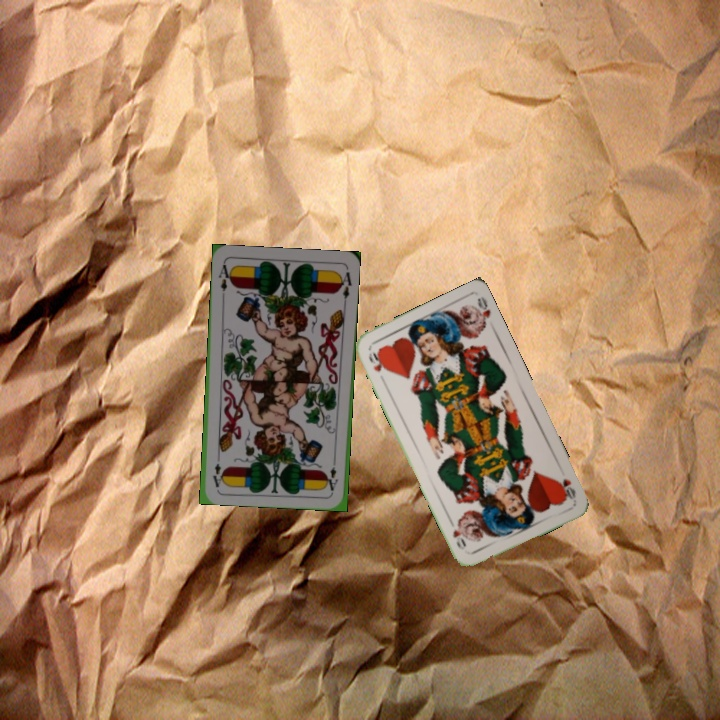EA: (215, 261, 234, 300), (324, 454, 341, 493)
HO: (553, 475, 578, 503), (364, 348, 389, 374)
